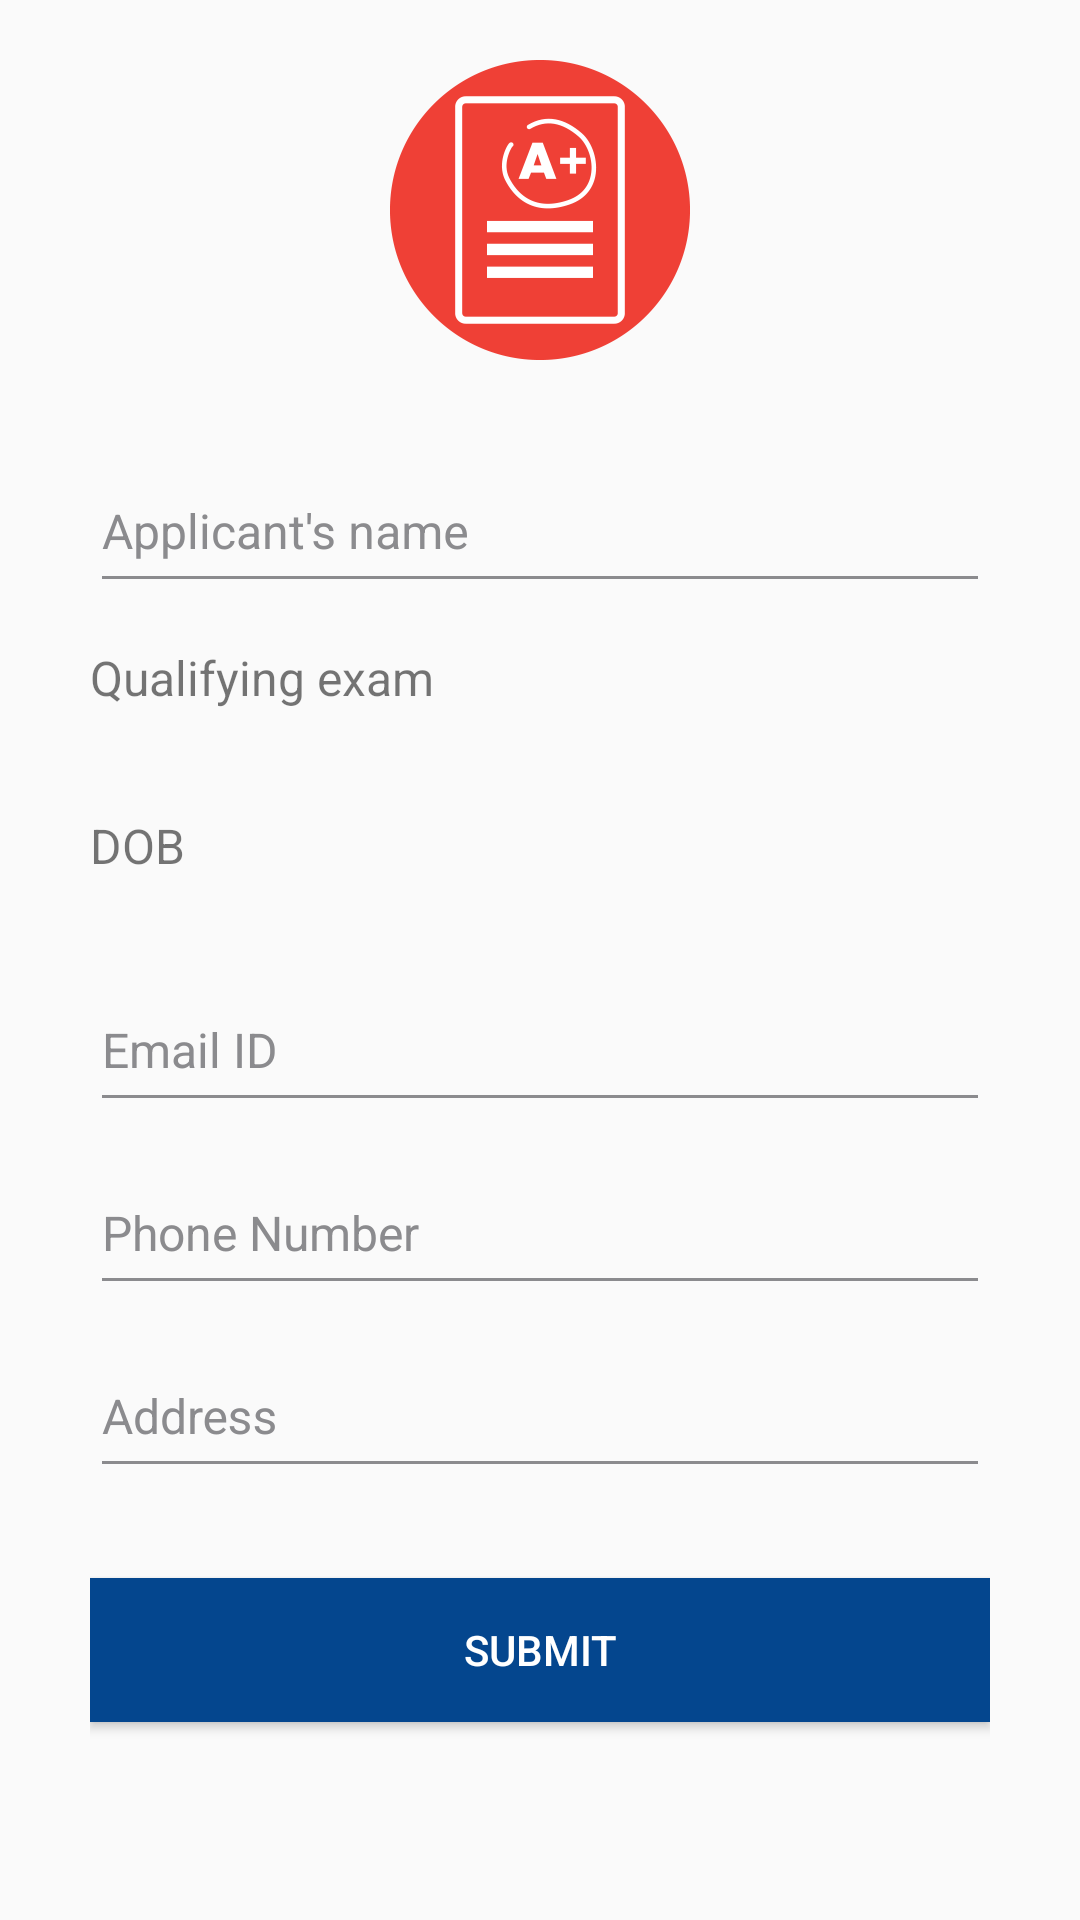

Named icons in this screenshot (1080×1920) and their centers, (x=x, y=y):
app: (x=540, y=210)
